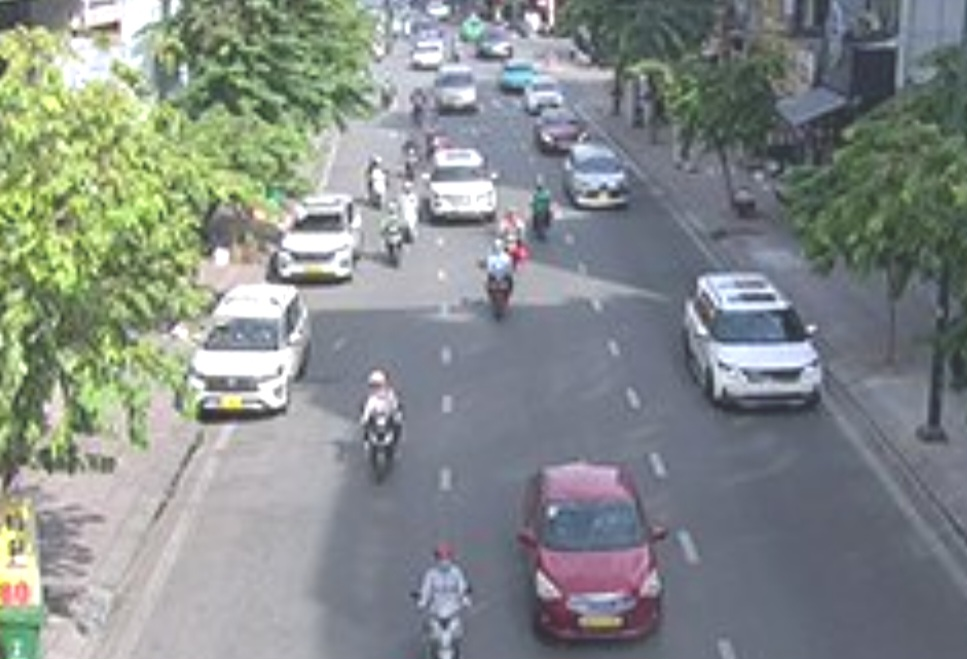car: (517, 468, 667, 644), (678, 277, 824, 415), (186, 282, 306, 422), (277, 190, 362, 285), (425, 151, 499, 225), (564, 146, 629, 210), (538, 109, 586, 154), (433, 67, 479, 113), (522, 76, 561, 114)
